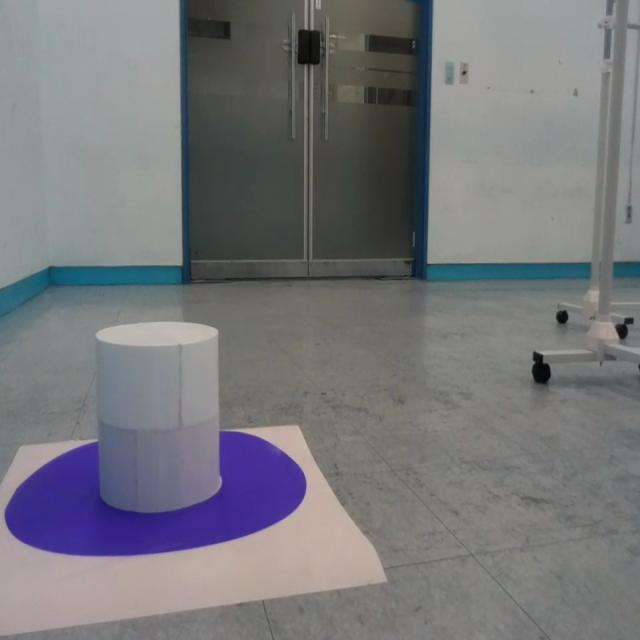cylinder: (94, 321, 222, 513)
